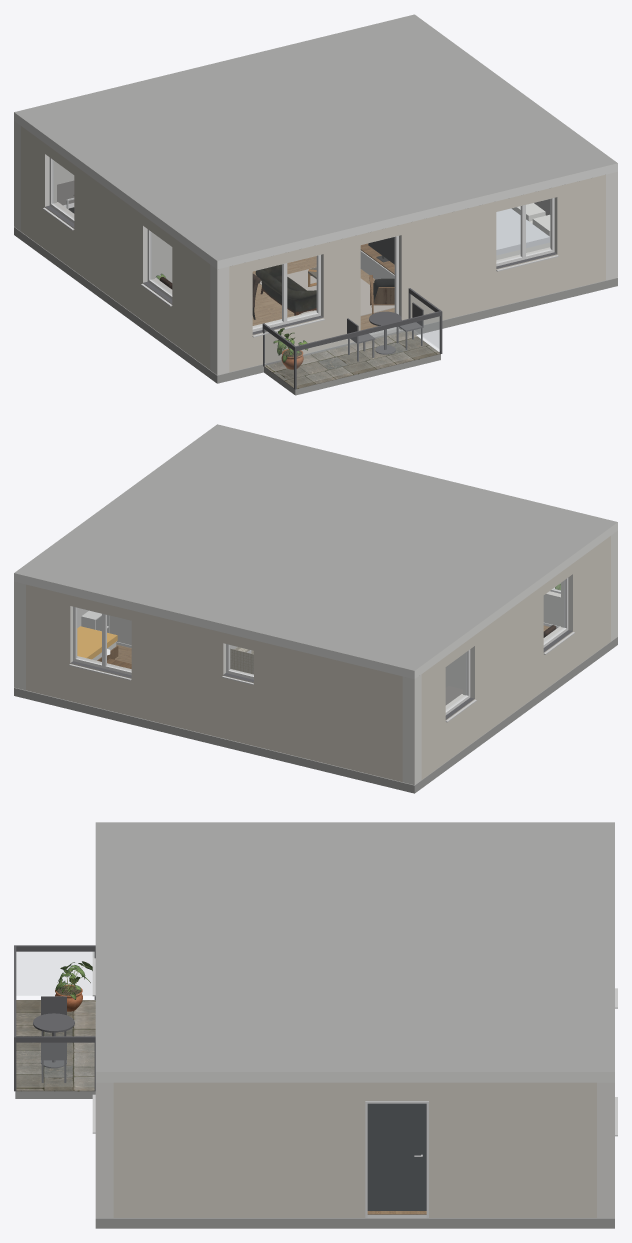
Rendered from wohnung_eingerichtet.glb.
The picture shows the model from 3 angles, top to bottom: view 1: azimuth 30°, elevation 25°; view 2: azimuth 150°, elevation 25°; view 3: azimuth 270°, elevation 25°; orthographic projection. The views are drawn at different scales.
Parts seen in each view (by area): view 1: Decke, Wand_aw_sued, Wand_aw_west, Gelaender_balkon, Rohdecke_unten, window_aw_sued_1.60, Boden_balkon, window_aw_sued_7.50, balcony_door_aw_sued_3.90, bed_23, Boden_wohnen, window_aw_west_2.40 (+10 smaller); view 2: Decke, Wand_aw_nord, Wand_aw_west, Rohdecke_unten, window_aw_nord_7.60, window_aw_west_2.40, Wand_aw_ost, window_aw_west_6.60, Wand_aw_sued, bed_30, window_aw_nord_4.20, Wand_iw_flur_nord (+1 smaller); view 3: Decke, Wand_aw_ost, Gelaender_balkon, entrance_aw_ost_4.90, Rohdecke_unten, Boden_balkon, Wand_aw_sued, Wand_aw_nord, bistro_table_44, Balkonplatte_balkon, chair_46, potted_plant_02_leaves.002.
Part boxes in pixels (box(x1,y1,x2,y2)): Decke: box(14, 14, 617, 269); Wand_aw_sued: box(210, 174, 605, 374); Wand_aw_west: box(21, 126, 229, 375); Gelaender_balkon: box(262, 288, 442, 389); Rohdecke_unten: box(14, 227, 617, 383); window_aw_sued_1.60: box(252, 255, 324, 337); Boden_balkon: box(264, 331, 440, 388); window_aw_sued_7.50: box(496, 198, 558, 271); balcony_door_aw_sued_3.90: box(360, 236, 398, 334); bed_23: box(496, 199, 550, 260); Boden_wohnen: box(252, 256, 394, 330); window_aw_west_2.40: box(141, 229, 172, 306); Decke: box(14, 424, 617, 679); Wand_aw_nord: box(26, 584, 421, 784); Wand_aw_west: box(402, 536, 610, 784); Rohdecke_unten: box(14, 636, 617, 793); window_aw_nord_7.60: box(69, 606, 131, 680); window_aw_west_2.40: box(543, 578, 574, 654); Wand_aw_ost: box(14, 581, 88, 690); window_aw_west_6.60: box(445, 649, 476, 722); Wand_aw_sued: box(543, 531, 617, 641); bed_30: box(77, 626, 118, 661); window_aw_nord_4.20: box(222, 644, 253, 684); Wand_iw_flur_nord: box(109, 615, 131, 645); Decke: box(95, 822, 614, 1082); Wand_aw_ost: box(113, 1082, 596, 1217); Gelaender_balkon: box(14, 945, 95, 1091); entrance_aw_ost_4.90: box(365, 1101, 428, 1218); Rohdecke_unten: box(95, 1214, 614, 1228); Boden_balkon: box(16, 1000, 95, 1091); Wand_aw_sued: box(95, 1082, 113, 1217); Wand_aw_nord: box(597, 1082, 614, 1217); bistro_table_44: box(33, 1013, 74, 1068); Balkonplatte_balkon: box(15, 1091, 95, 1098); chair_46: box(41, 1042, 66, 1082); potted_plant_02_leaves.002: box(55, 961, 92, 999).
Bounding box in the file's own units: 9.96 × 2.9 × 10.12.
Materials: 63 (16 with a texture image).
